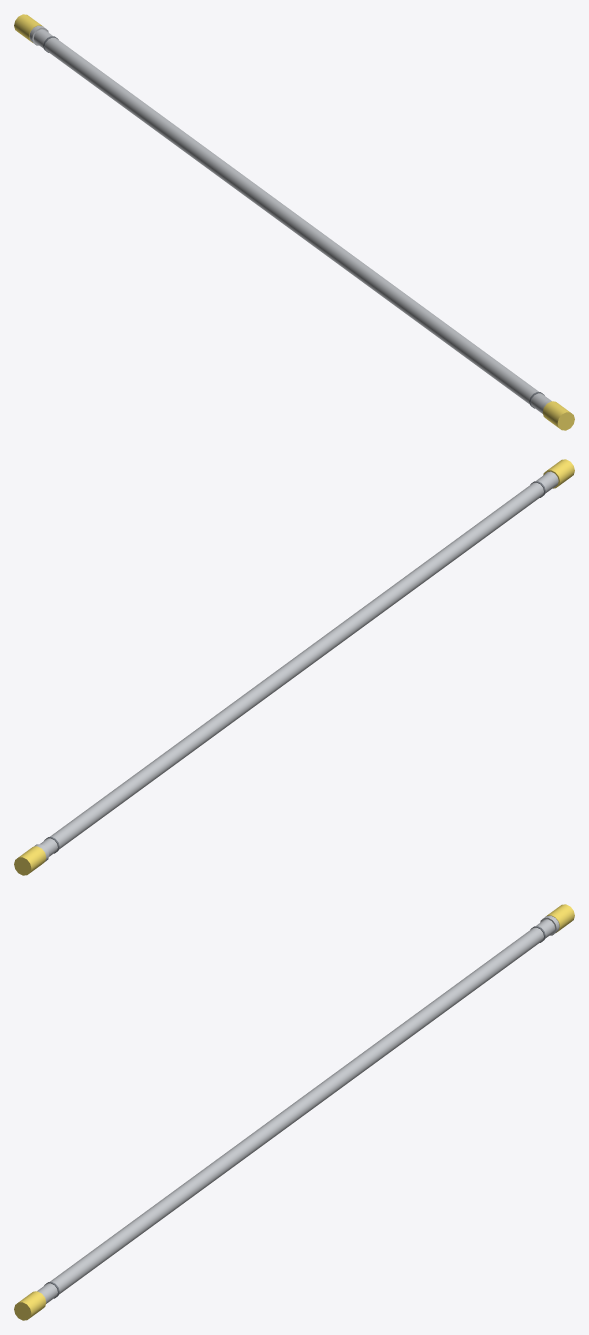
File: pipe.glb
3 views of the same model, one above another, from view 1: azimuth 30°, elevation 25°; view 2: azimuth 150°, elevation 25°; view 3: azimuth 330°, elevation 25° (orthographic).
Visible parts, largest first — view 1: pipe_pipe, band_band; view 2: pipe_pipe, band_band; view 3: pipe_pipe, band_band.
Boxes of the visible parts, <box> form: pipe_pipe: <box>29,25,551,413</box>; band_band: <box>14,14,574,430</box>; pipe_pipe: <box>34,471,558,861</box>; band_band: <box>14,459,574,875</box>; pipe_pipe: <box>37,915,559,1303</box>; band_band: <box>14,904,574,1320</box>.
Bounding box in the file's own units: 0.284 × 0.284 × 15.32.
